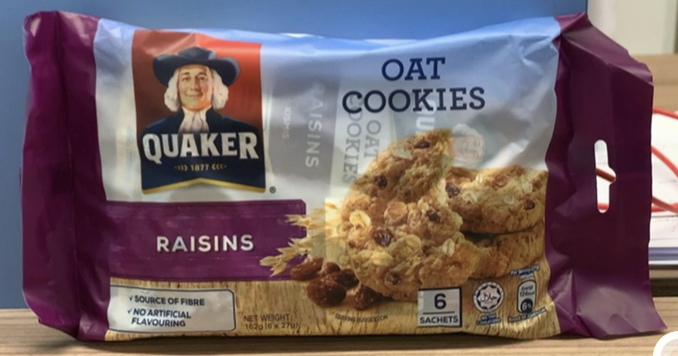cookies_150g: (106, 47, 542, 330)
